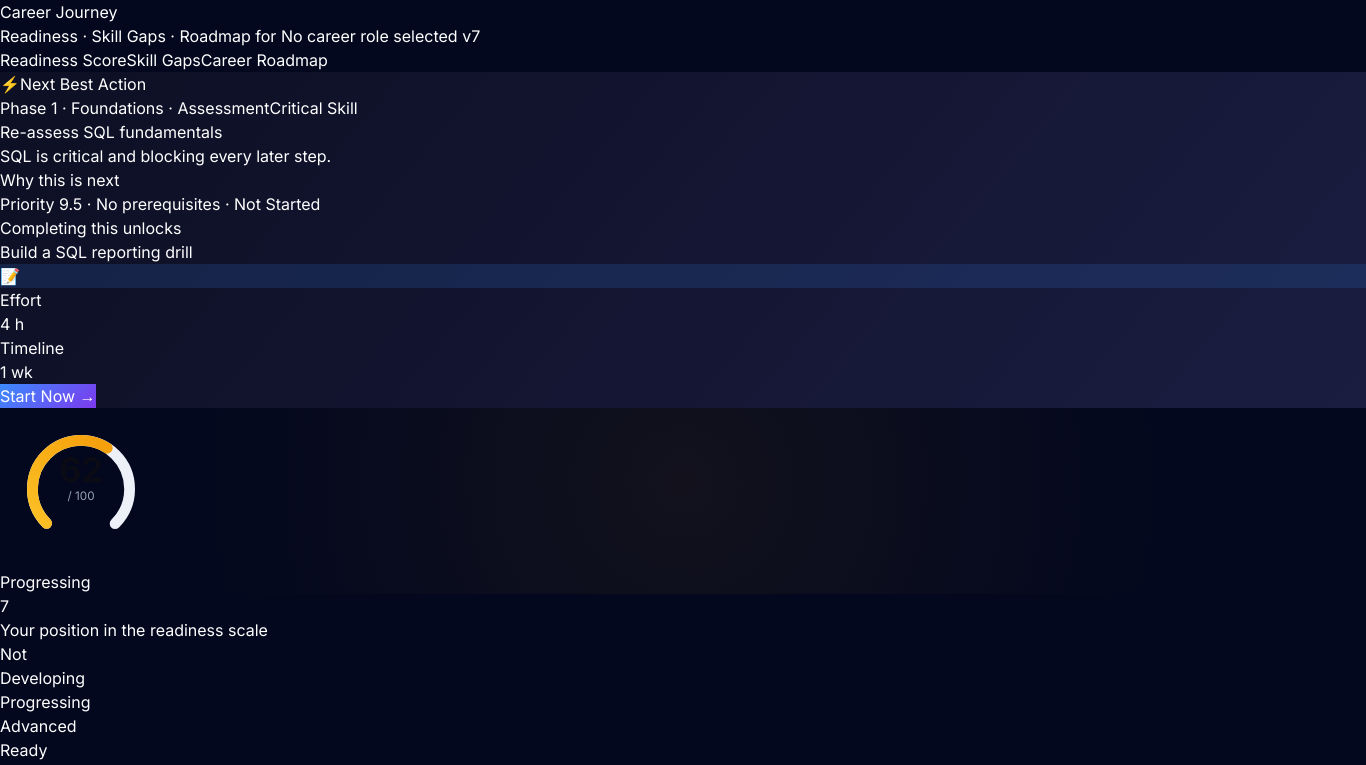
Scenario: CareerJourneyView with a real backend payload › renders the roadmap instead of the "no saved roadmap" notice
The width and height of the screenshot is (1366, 765).
Click the button "Career Roadmap".
click(264, 60)  # box [201,48,328,72]
(page scrolled)
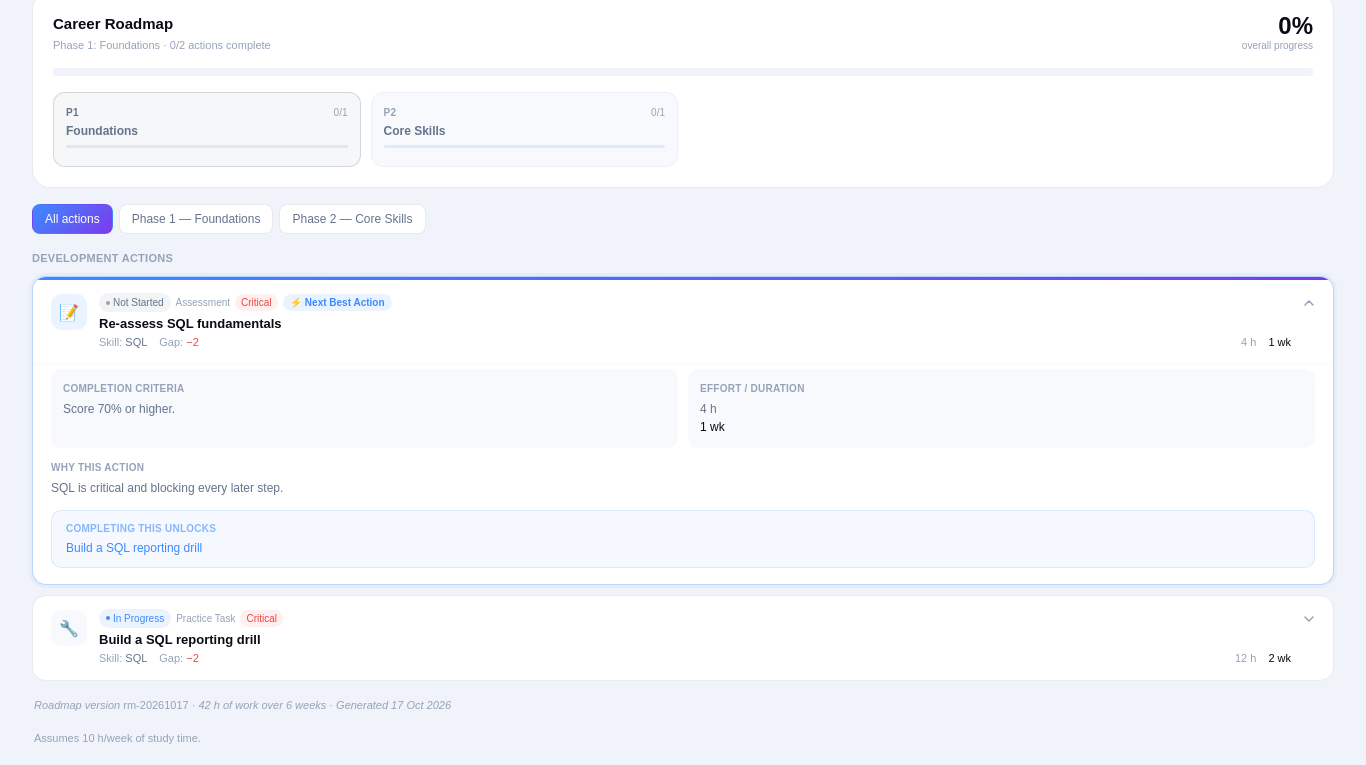
Result: the text "Phase 1: Foundations · 0/2 actions complete" is shown at [53,37,271,54]
Result: the text "Core Skills" is shown at [384,124,446,138]
Result: the text "rm-20261017" is shown at [123,699,189,711]
